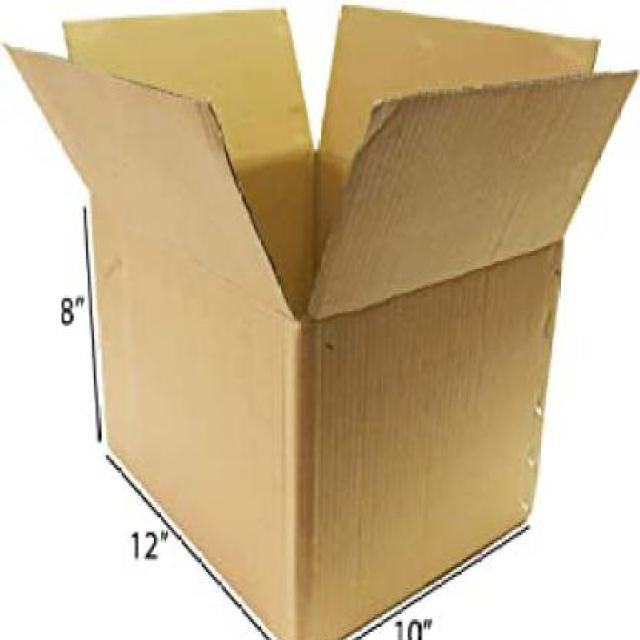box: (3, 0, 637, 640)
